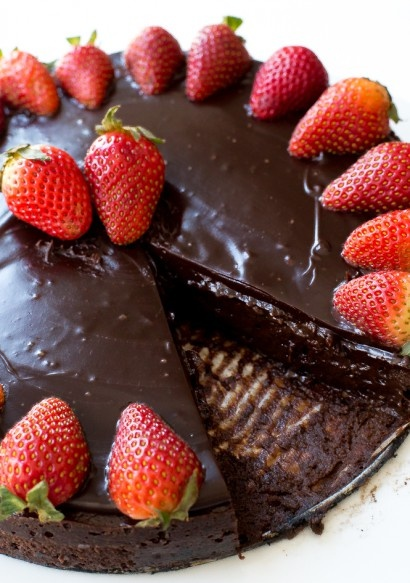background: (0, 14, 263, 523)
